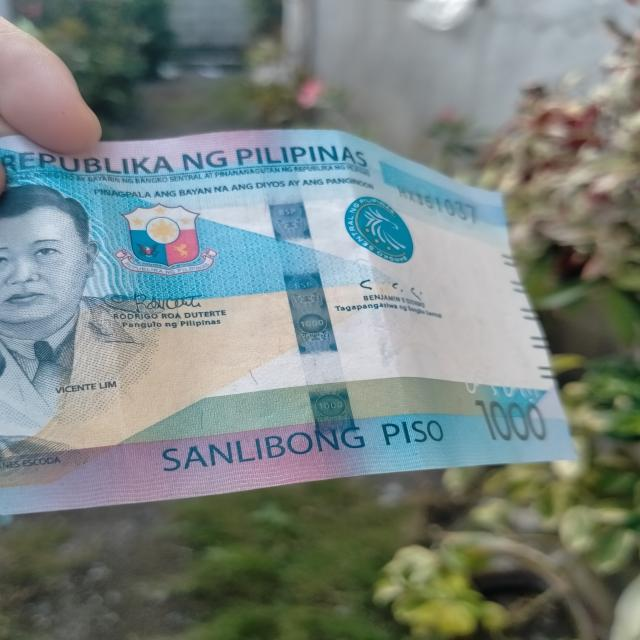security_thread: (242, 125, 369, 477)
see_through_mark: (451, 372, 551, 408)
